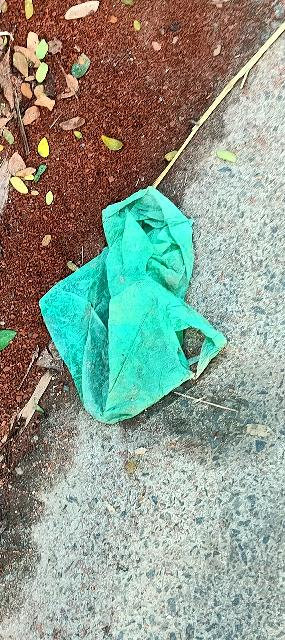polythene: (1, 162, 251, 436)
